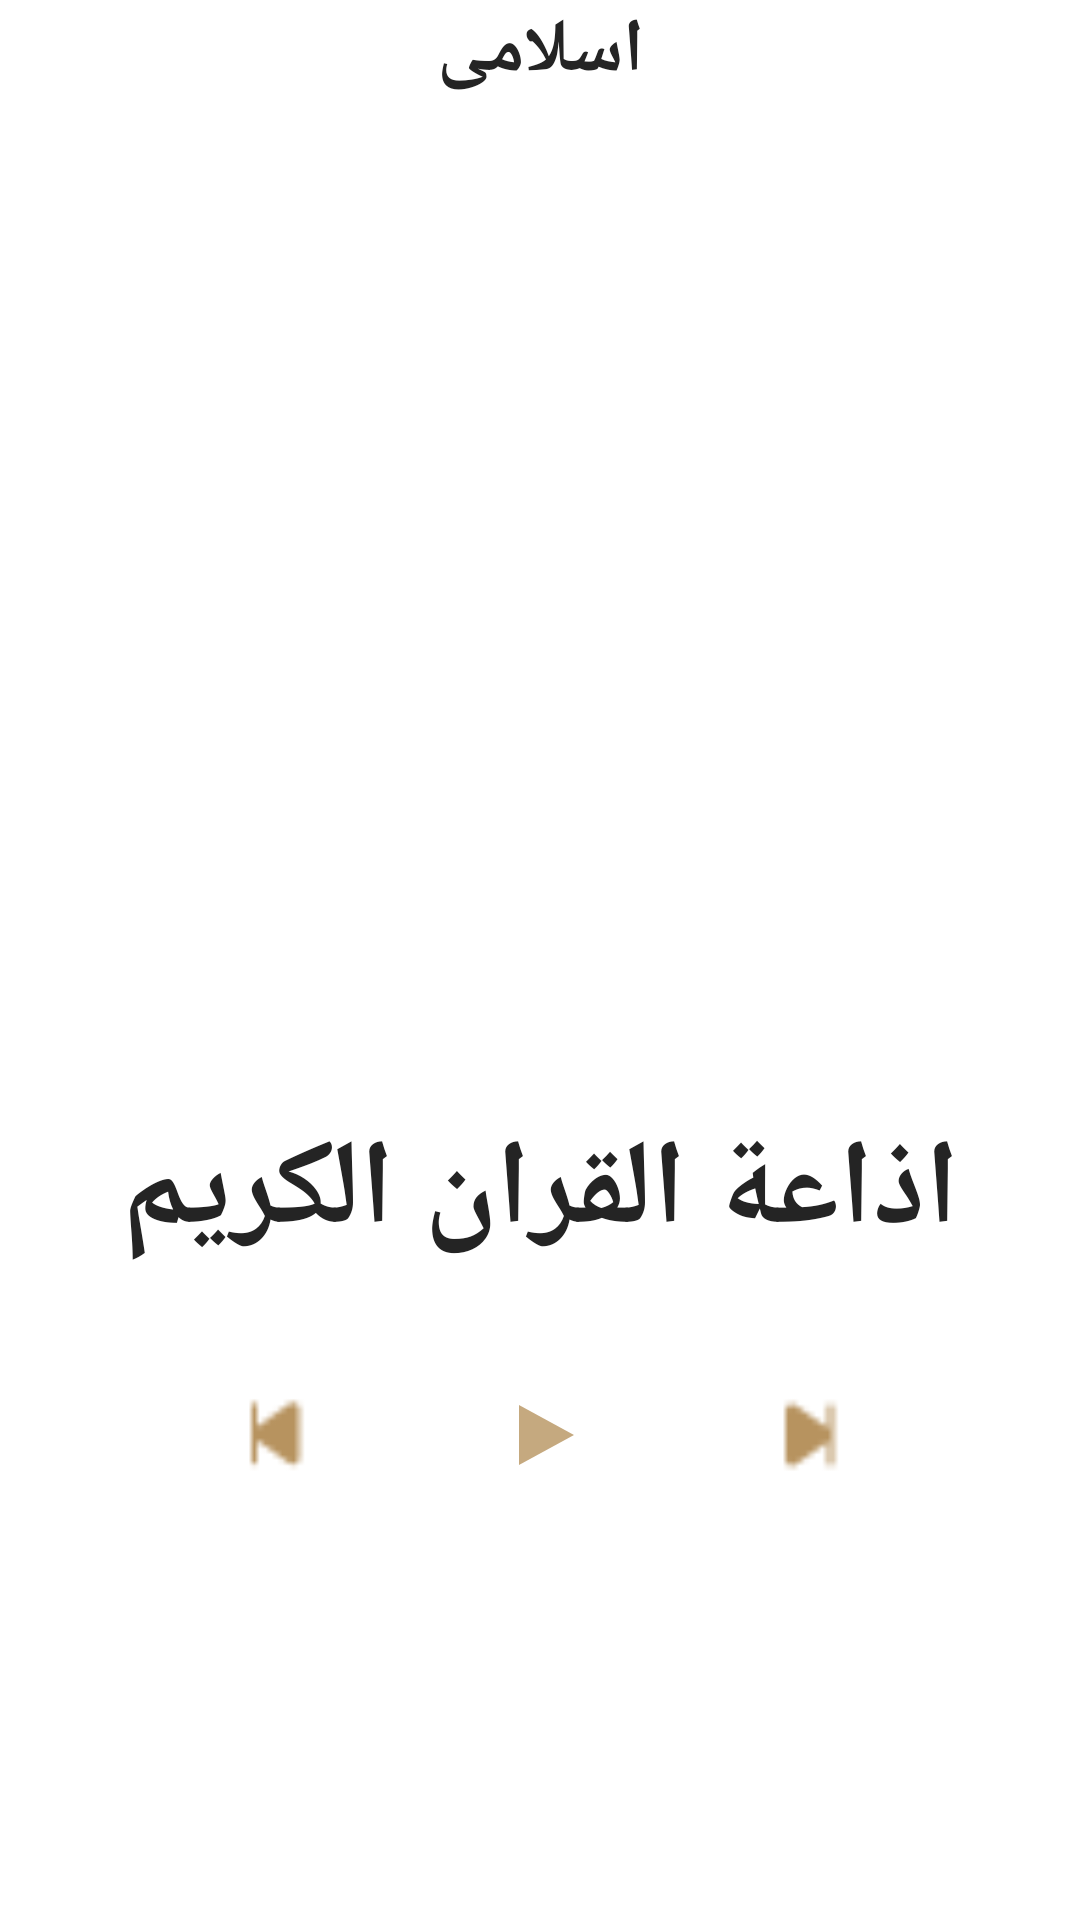

Icons on this 1080w x 1920h Android screen, each with its box as (x1, y1, x2, y2):
back radio: (250, 1400, 303, 1466)
next radio: (784, 1401, 837, 1469)
play: (519, 1405, 574, 1465)
